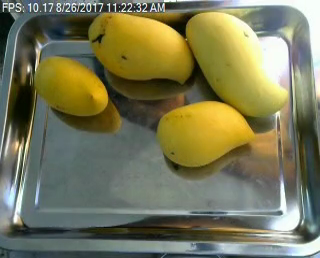Mango: (186, 11, 288, 117), (89, 10, 195, 84), (157, 99, 255, 165), (33, 55, 107, 115)
